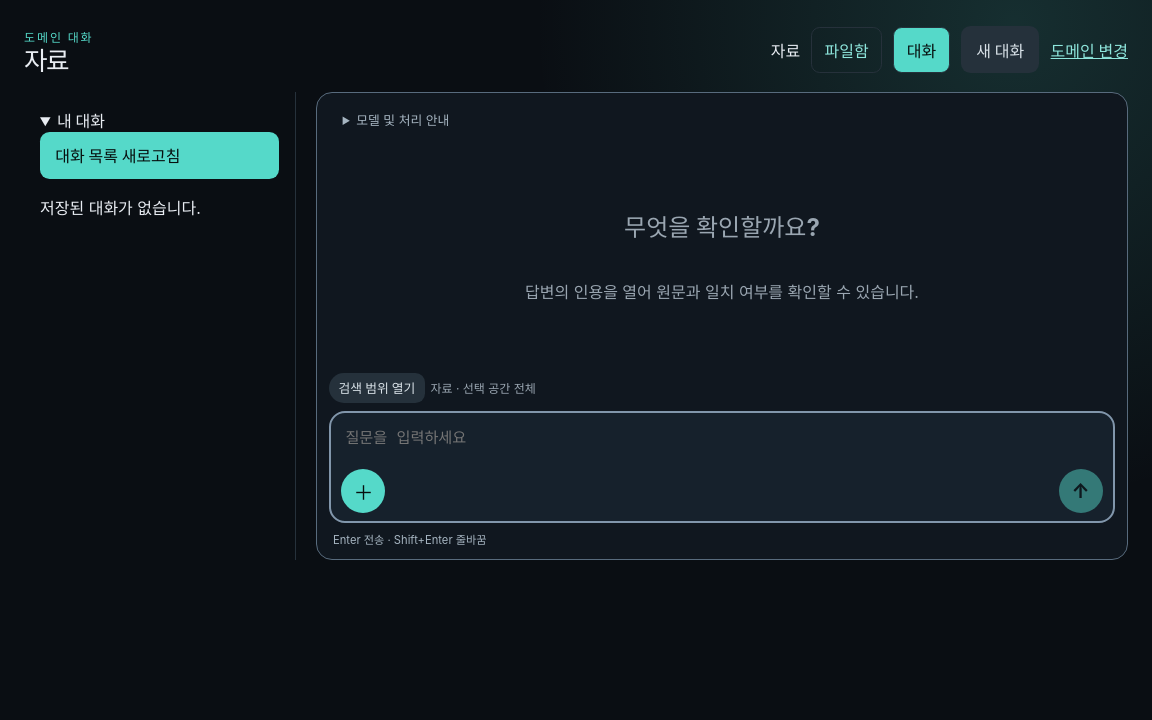
it: refreshes an accepted running first question without cancelling it or clearing the draft
Type "첫 질문" into the text box labelled "질문" at (722, 441), box x1=341 y1=421 x2=1103 y2=461
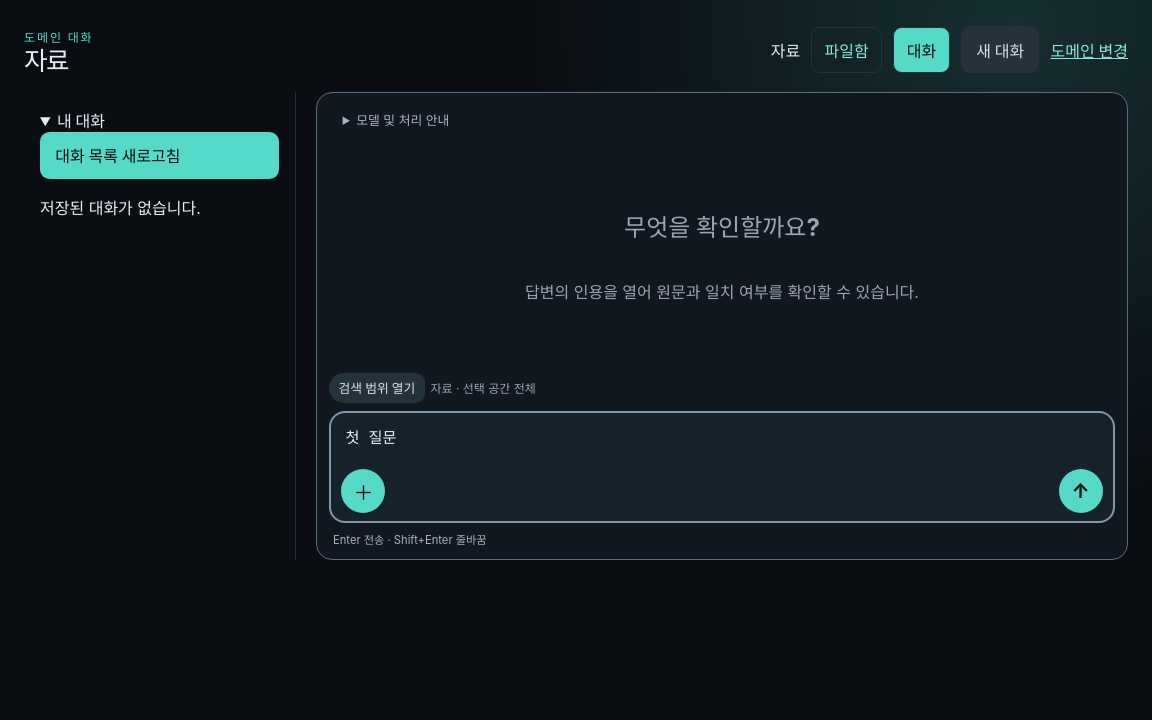
Click the button named "질문 보내기" at (1081, 491), box x1=1059 y1=469 x2=1103 y2=513
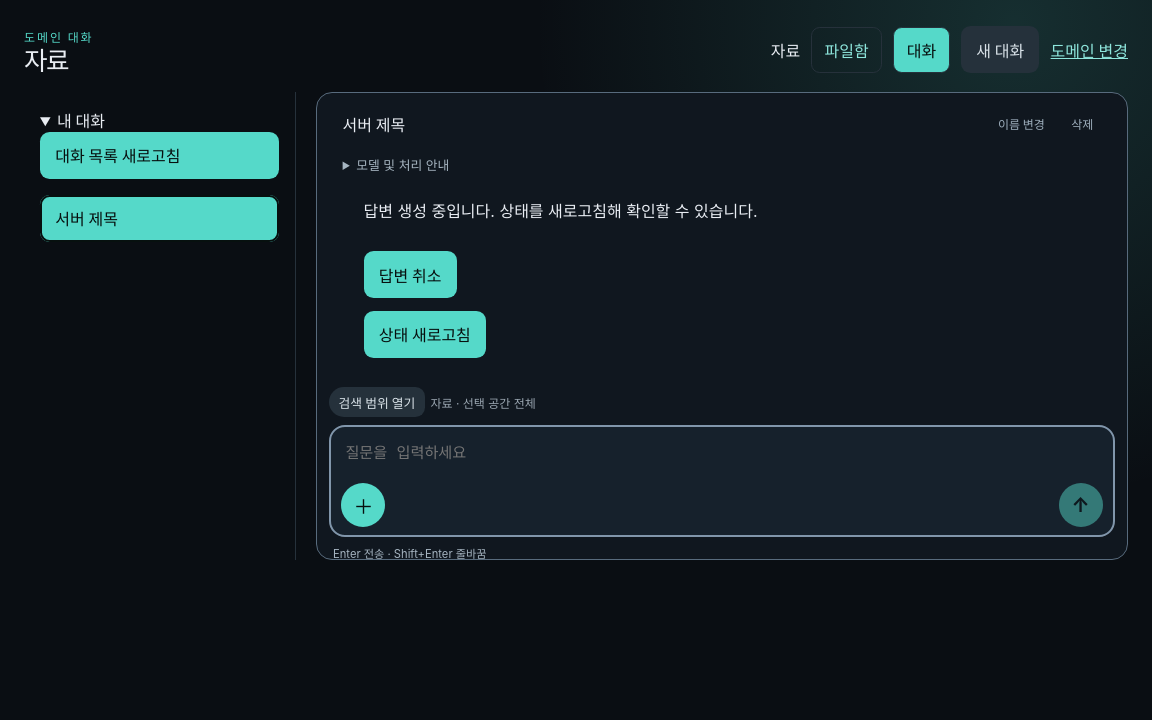
Expected: the button "상태 새로고침" is shown, x1=364 y1=311 x2=486 y2=358
Type "작성 중인 후속 질문" into the text box labelled "질문" at (722, 455), box x1=341 y1=435 x2=1103 y2=475
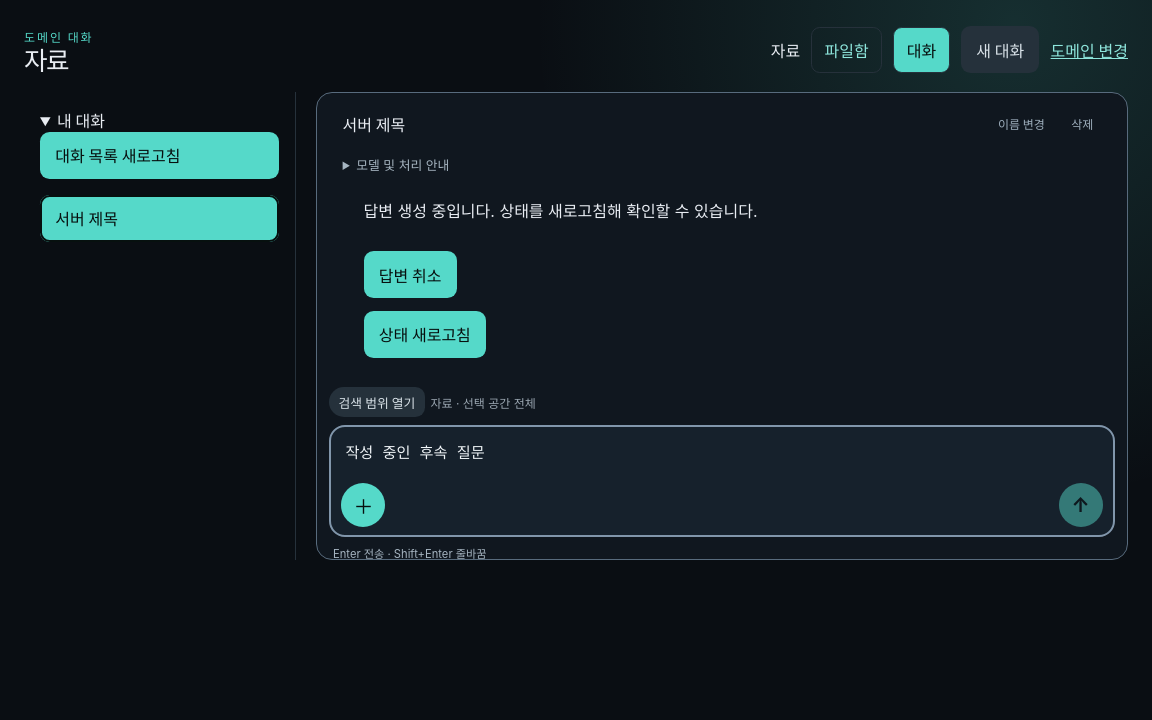
Click the button "상태 새로고침" at (425, 334), box x1=364 y1=311 x2=486 y2=358
Wait 2000 ms
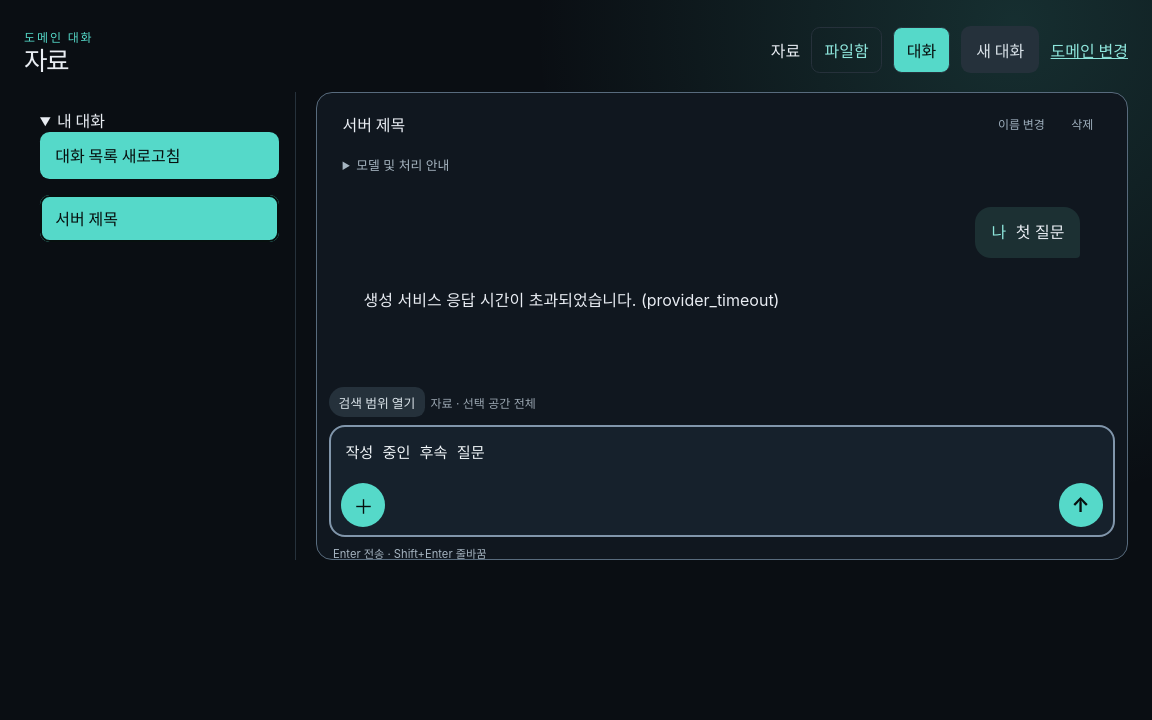
Expected: the heading "서버 제목" is shown, x1=343 y1=115 x2=405 y2=135
Expected: the button "상태 새로고침" is gone
